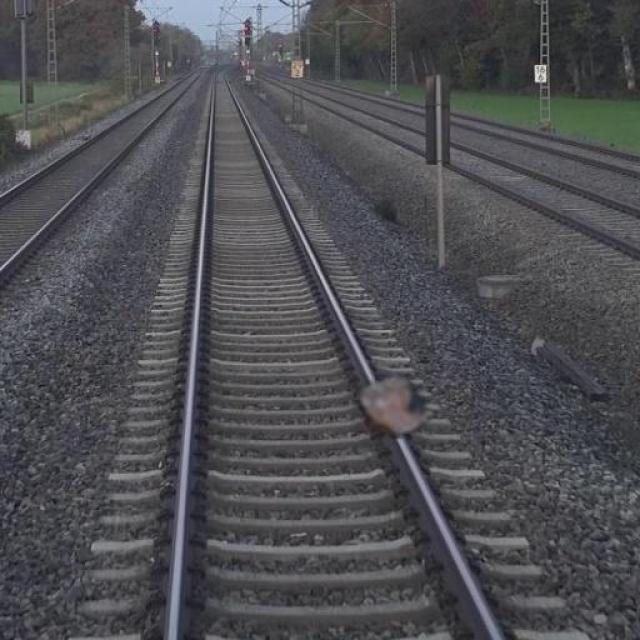Stone: (358, 371, 440, 446)
